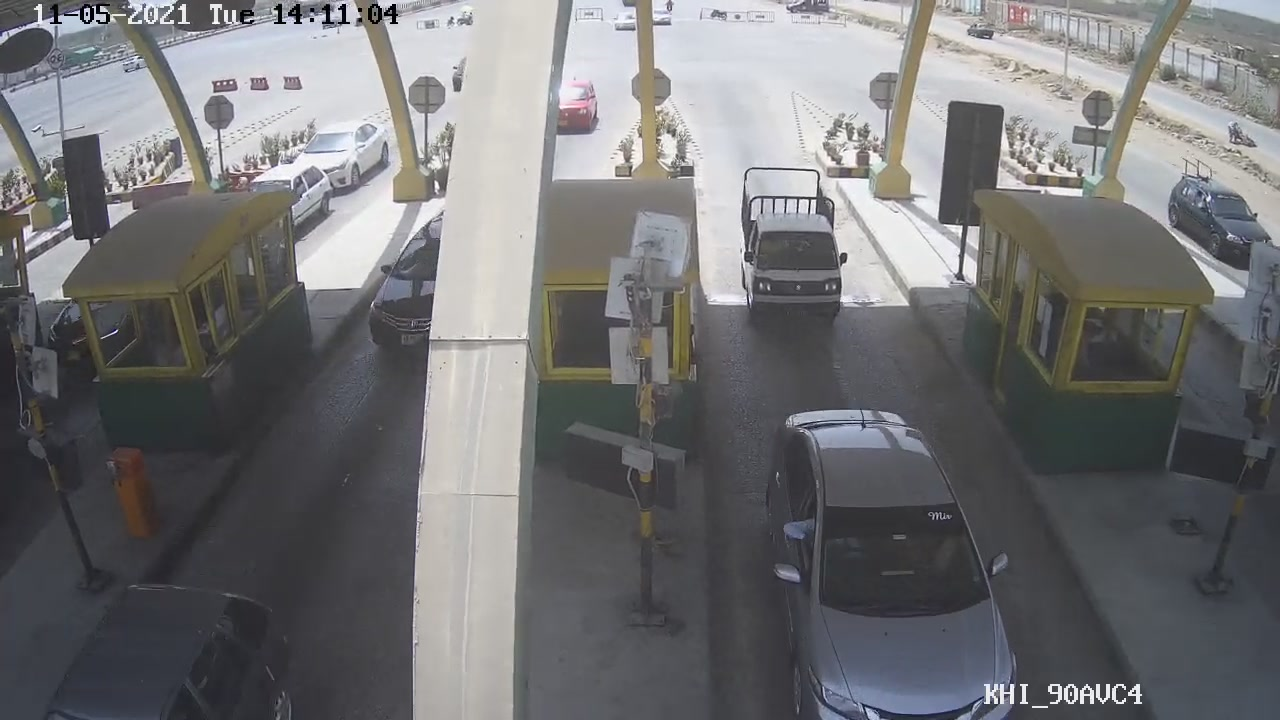F1: (732, 157, 862, 344)
